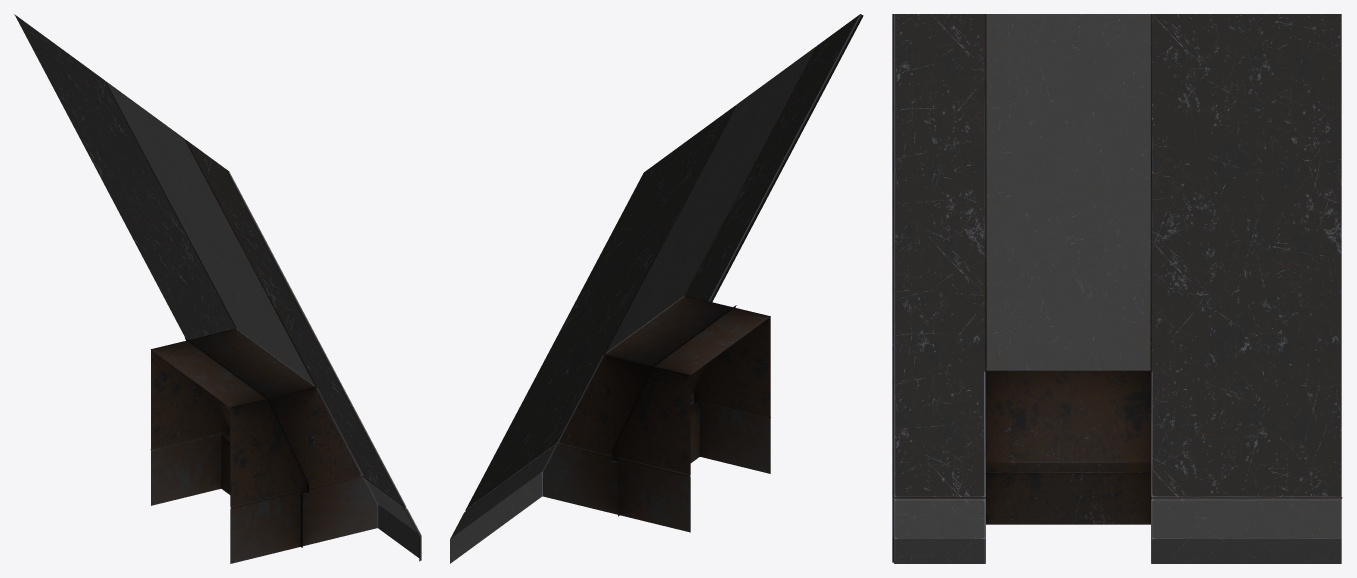
The model's file is SM_HangarBigWall.fbx.
The picture shows the model from 3 angles, left to right: view 1: azimuth 30°, elevation 25°; view 2: azimuth 150°, elevation 25°; view 3: azimuth 270°, elevation 25°; orthographic projection. The views are drawn at different scales.
Visible parts, largest first — view 1: SM_HangarBigWall_LOD0; view 2: SM_HangarBigWall_LOD0; view 3: SM_HangarBigWall_LOD0.
Boxes of the visible parts, left/top/right/bottom form: SM_HangarBigWall_LOD0: left=14, top=14, right=421, bottom=563; SM_HangarBigWall_LOD0: left=450, top=14, right=863, bottom=563; SM_HangarBigWall_LOD0: left=892, top=14, right=1342, bottom=563.
Size of the model in its own units: 681 by 1311 by 1454.
1 material, 1 textured.
